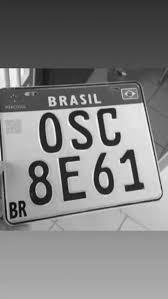placa_mercosul: (0, 81, 164, 226)
